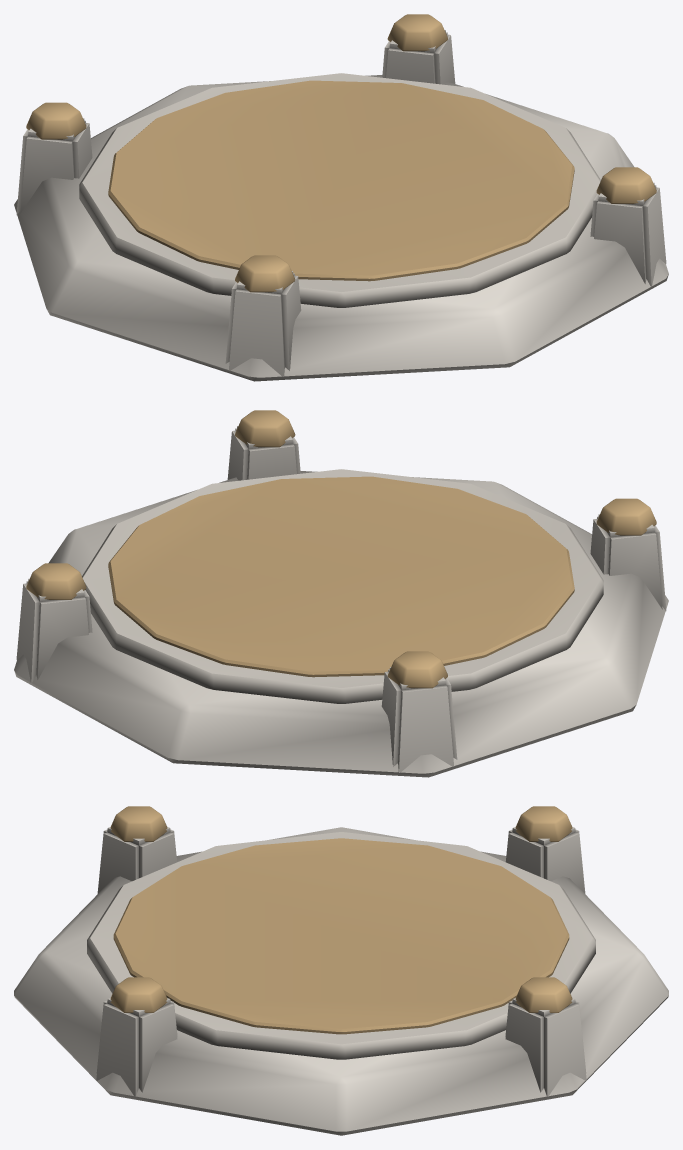
Rendered from ink_cannon_base_lod0.glb.
3 views of the same model, one above another, from view 1: azimuth 30°, elevation 25°; view 2: azimuth 150°, elevation 25°; view 3: azimuth 270°, elevation 25° (orthographic). The views are drawn at different scales.
Parts seen in each view (by area): view 1: ink_cannon_base; view 2: ink_cannon_base; view 3: ink_cannon_base.
Part boxes in pixels (<box>): ink_cannon_base: <box>14,14,668,381</box>; ink_cannon_base: <box>14,410,668,777</box>; ink_cannon_base: <box>14,806,668,1135</box>.
Bounding box in the file's own units: 3.38 × 0.56 × 3.38.
